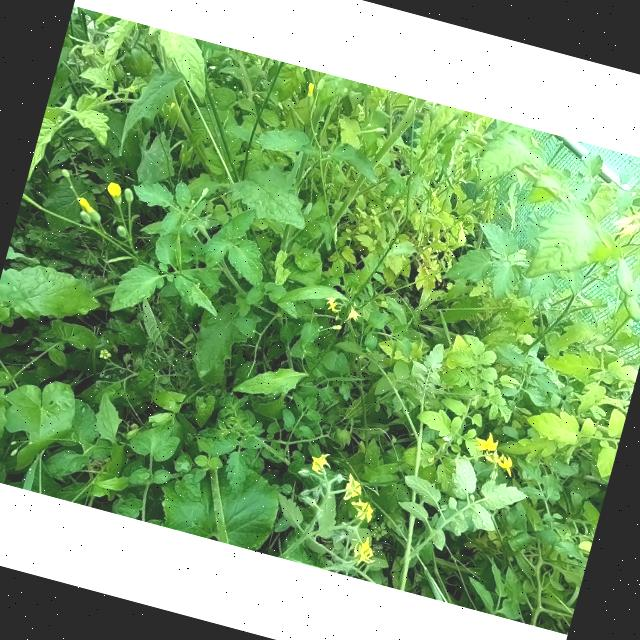Flowers: (345, 534, 380, 570), (480, 449, 520, 480), (66, 196, 106, 227), (336, 471, 366, 505), (610, 210, 640, 242), (469, 427, 502, 455), (306, 450, 334, 478), (347, 496, 376, 522), (102, 180, 126, 205), (344, 304, 366, 326), (324, 294, 343, 316)
